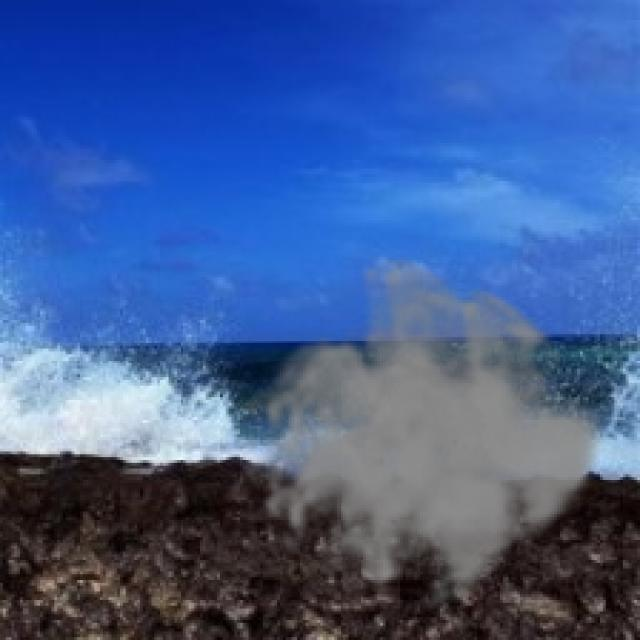smoke: (240, 251, 609, 623)
